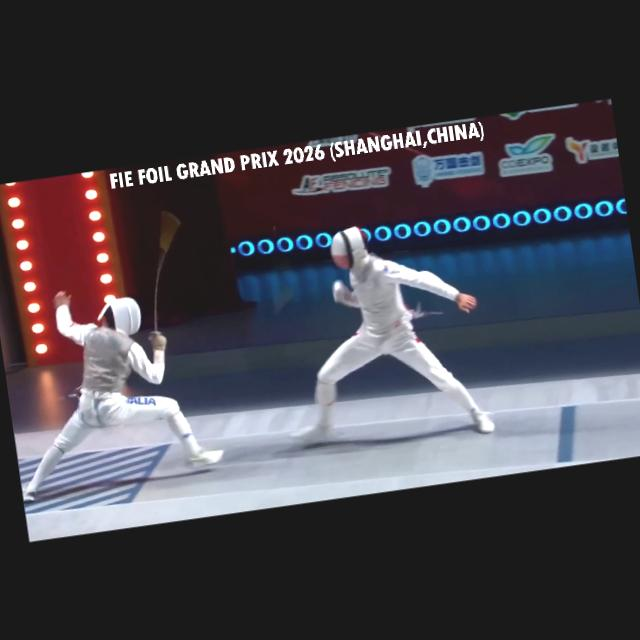blade: (132, 212, 202, 352)
